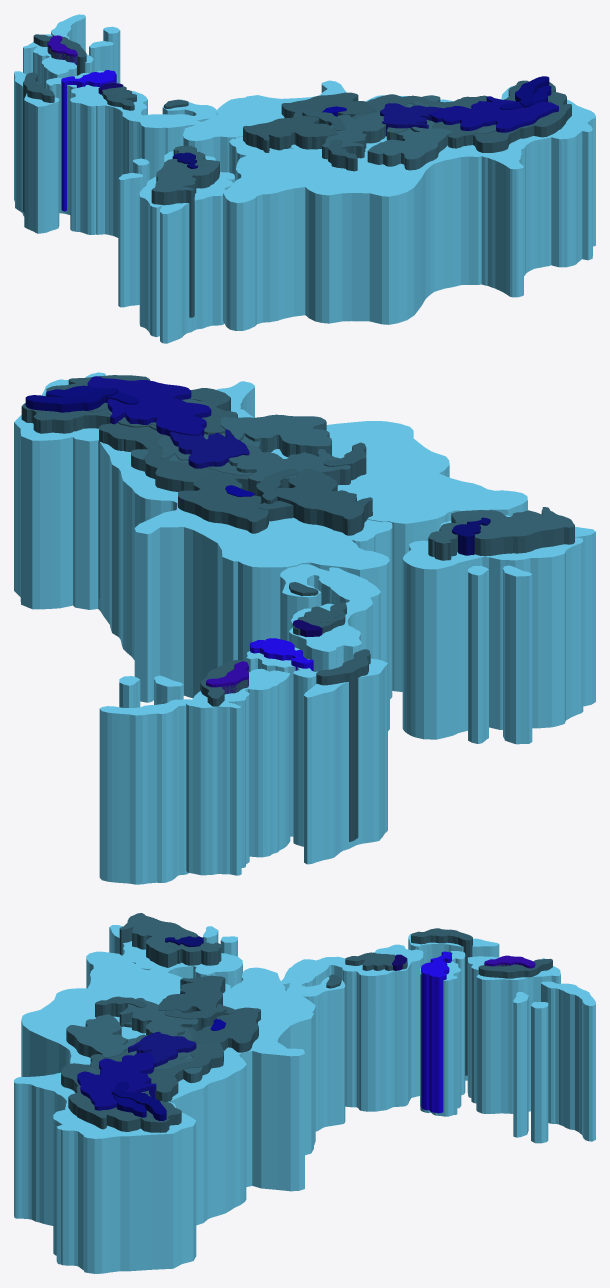
File: weather_poly.dae
The picture shows the model from 3 angles, top to bottom: view 1: azimuth 30°, elevation 25°; view 2: azimuth 150°, elevation 25°; view 3: azimuth 270°, elevation 25°; orthographic projection. The views are drawn at different scales.
Visible parts, largest first — view 1: Object, Object_014, Object_004_003, Object_008_001, Object_001, Object_012_000, Object_007_009, Object_007_013, Object_007_002, Object_004_002, Object_007_012, Object_007_011 (+16 smaller); view 2: Object_001, Object_014, Object_007_001, Object, Object_002_001, Object_008_001, Object_004_003, Object_012_000, Object_007_009, Object_007_013, Object_011_000, Object_004_004 (+22 smaller); view 3: Object_001, Object, Object_004_003, Object_007_001, Object_002_001, Object_006_001, Object_006_000, Object_011_001, Object_007_009, Object_012_001, Object_014, Object_007_002 (+18 smaller).
Part boxes in pixels (bbox=[...]): Object: bbox=[223, 99, 592, 330]; Object_014: bbox=[139, 151, 235, 343]; Object_004_003: bbox=[70, 86, 217, 237]; Object_008_001: bbox=[14, 71, 59, 233]; Object_001: bbox=[183, 80, 595, 246]; Object_012_000: bbox=[118, 173, 142, 307]; Object_007_009: bbox=[151, 158, 219, 317]; Object_007_013: bbox=[243, 115, 337, 152]; Object_007_002: bbox=[367, 126, 452, 170]; Object_004_002: bbox=[431, 91, 571, 148]; Object_007_012: bbox=[322, 114, 385, 159]; Object_007_011: bbox=[429, 96, 516, 130]; Object_001: bbox=[14, 379, 389, 730]; Object_014: bbox=[402, 515, 595, 739]; Object_007_001: bbox=[186, 668, 290, 875]; Object: bbox=[55, 372, 527, 691]; Object_002_001: bbox=[99, 699, 191, 884]; Object_008_001: bbox=[304, 658, 387, 864]; Object_004_003: bbox=[280, 564, 380, 671]; Object_012_000: bbox=[503, 565, 532, 744]; Object_007_009: bbox=[451, 507, 574, 556]; Object_007_013: bbox=[275, 468, 372, 535]; Object_011_000: bbox=[468, 565, 488, 743]; Object_004_004: bbox=[99, 423, 253, 598]; Object_001: bbox=[68, 967, 315, 1273]; Object: bbox=[14, 951, 182, 1269]; Object_004_003: bbox=[281, 944, 423, 1131]; Object_007_001: bbox=[467, 956, 560, 1113]; Object_002_001: bbox=[541, 981, 595, 1141]; Object_006_001: bbox=[420, 951, 465, 1116]; Object_006_000: bbox=[421, 951, 451, 1113]; Object_011_001: bbox=[531, 1002, 548, 1143]; Object_007_009: bbox=[119, 913, 198, 967]; Object_012_001: bbox=[513, 992, 528, 1137]; Object_014: bbox=[109, 925, 242, 987]; Object_007_002: bbox=[66, 1014, 135, 1057].
Bounding box in the file's own units: 14 × 15.79 × 4.81.
